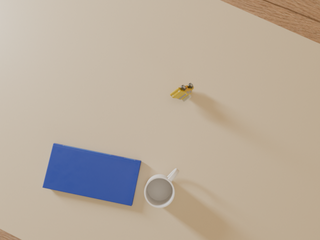book: (43, 143, 141, 206)
cup: (144, 169, 179, 208)
toy_car: (170, 83, 194, 102)
